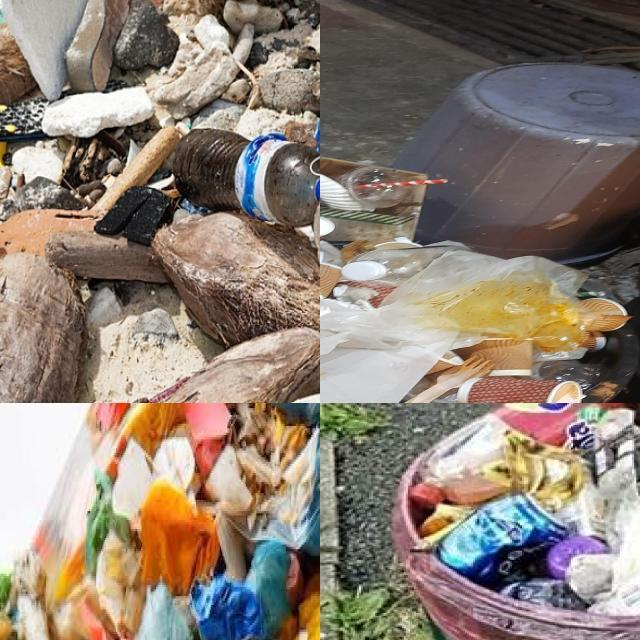Disposable: (338, 166, 428, 208), (534, 360, 600, 390)
Garbage: (320, 158, 630, 403), (0, 403, 320, 640), (409, 403, 640, 615)
Plastic_Bag: (32, 403, 320, 640), (381, 250, 593, 361), (135, 582, 193, 640)
Plastic_Straw: (365, 179, 448, 187), (577, 289, 606, 300)
Plastic_bottle: (409, 403, 622, 516), (173, 128, 320, 226), (342, 242, 471, 283)
can: (433, 491, 567, 591)
